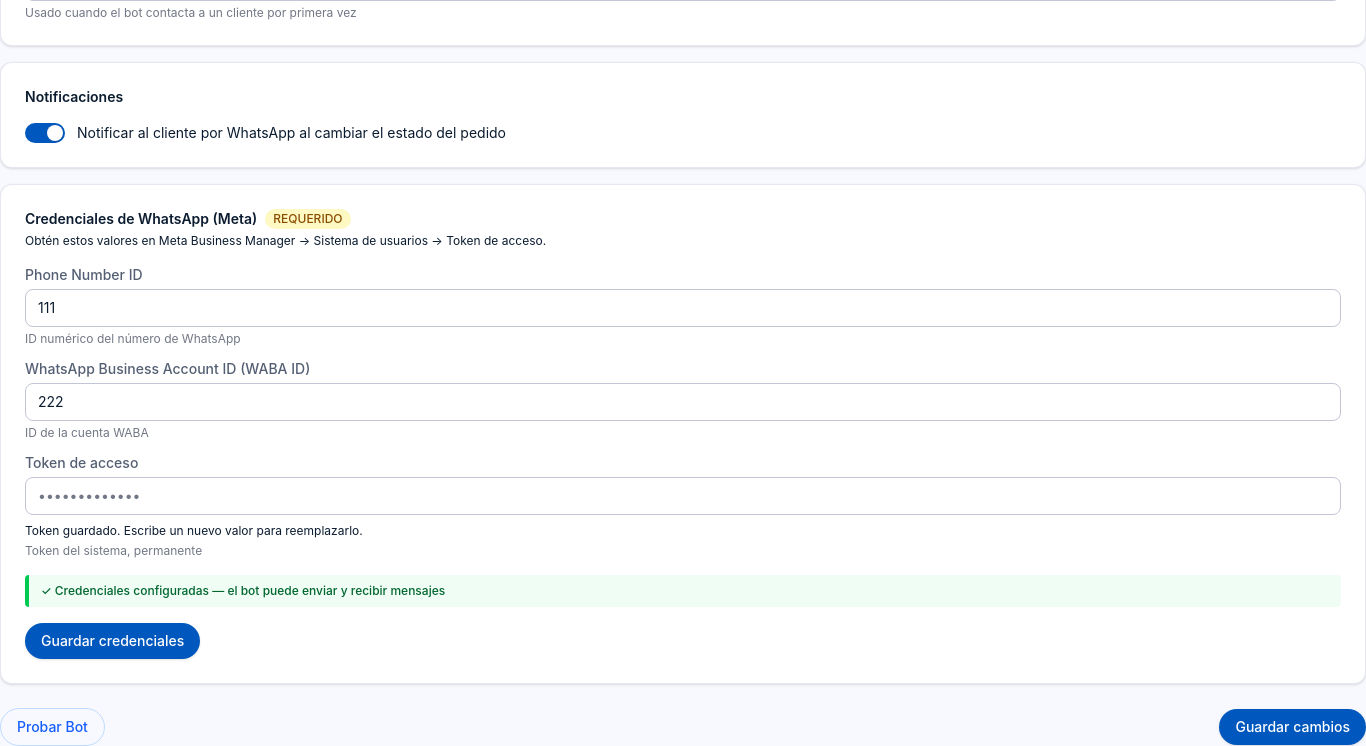
Test: BotPage › opens TestDialog when Probar Bot clicked
The width and height of the screenshot is (1366, 746).
(page scrolled)
Click the button "Probar Bot".
click(52, 727)  # box [0, 708, 105, 745]
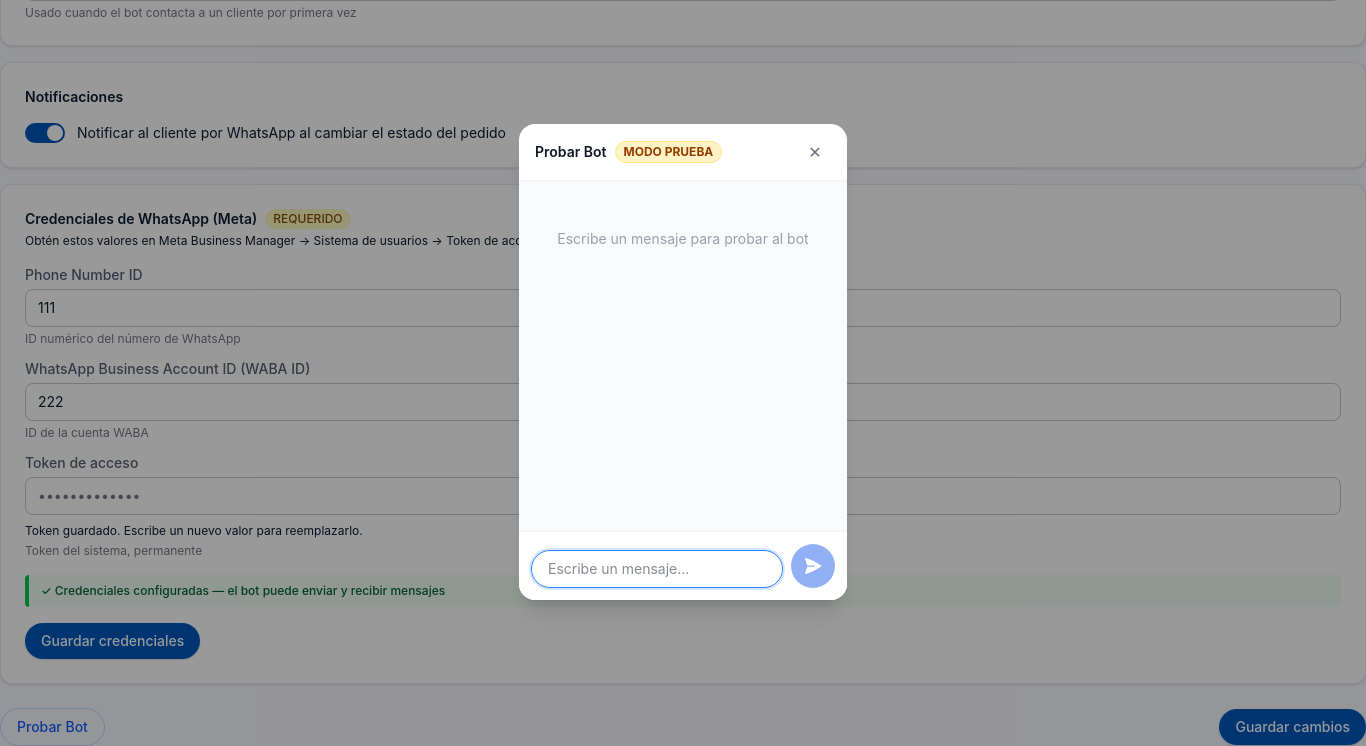
Expected: the dialog is shown, [519, 124, 847, 600]
